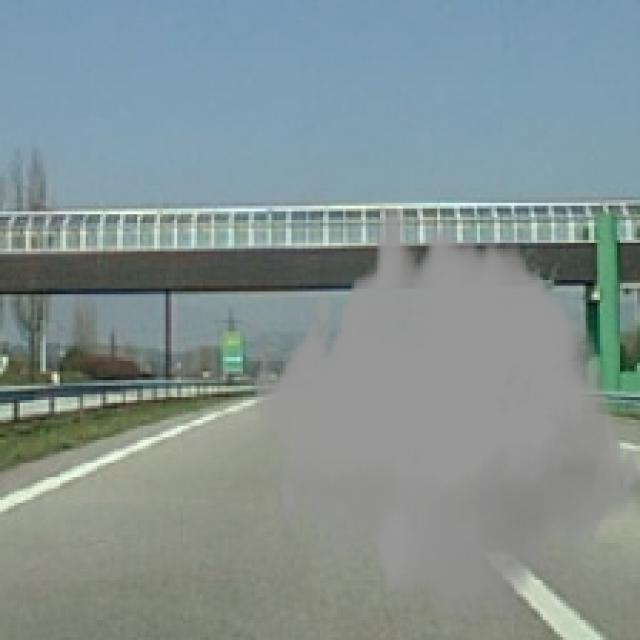smoke: (252, 208, 637, 626)
